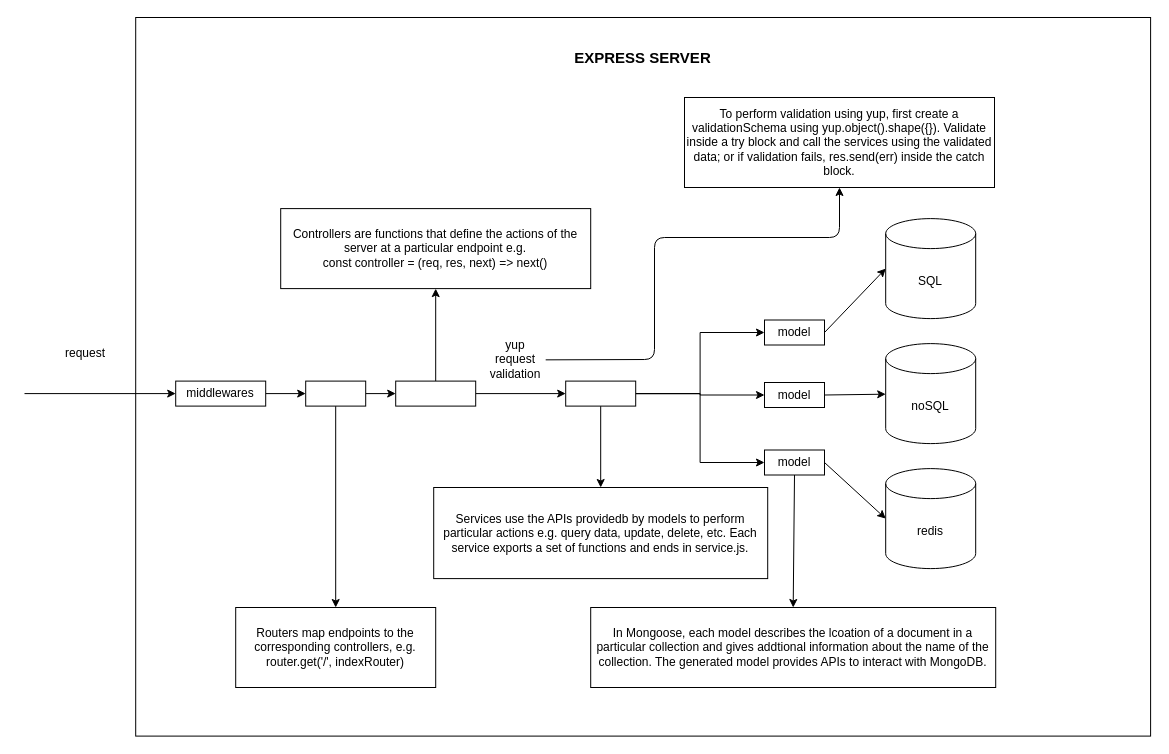
The diagram is 1169 pixels wide and 754 high, and some of its shapes have lost their labels. The shapes that lost their labels are listed below. From the top down, each one's centre as x and y in pixels, then its label:
At (x=335, y=393): "routers".
At (x=435, y=393): "controllers".
At (x=600, y=393): "services".
